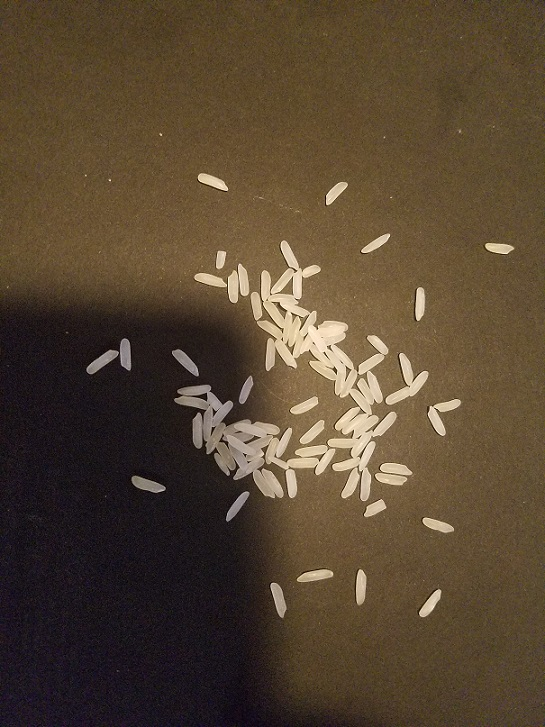egg: (84, 349, 119, 375), (266, 580, 289, 619), (222, 491, 249, 523), (171, 347, 200, 376), (220, 433, 255, 457), (251, 468, 276, 500), (231, 457, 264, 481), (420, 585, 443, 619), (274, 338, 298, 370), (262, 467, 285, 500), (262, 299, 288, 327), (359, 233, 391, 255), (269, 267, 295, 294), (371, 411, 397, 438), (204, 422, 225, 455), (333, 407, 360, 432), (295, 567, 334, 584), (299, 419, 325, 444), (322, 180, 347, 206), (331, 344, 356, 370), (350, 415, 379, 437), (215, 440, 236, 470), (305, 324, 328, 351), (313, 448, 336, 475), (357, 354, 385, 376), (211, 400, 233, 428), (341, 413, 369, 435), (278, 240, 299, 269), (197, 172, 229, 191), (310, 345, 336, 368), (366, 370, 383, 405), (227, 443, 249, 470), (426, 406, 445, 437), (397, 352, 414, 386), (130, 476, 166, 492), (349, 388, 372, 413), (254, 320, 284, 339), (422, 516, 455, 533), (341, 468, 359, 499), (276, 426, 293, 458), (357, 441, 377, 468), (340, 370, 360, 397), (354, 567, 368, 605), (193, 272, 228, 287), (365, 334, 390, 355), (373, 472, 408, 487), (290, 396, 319, 414), (356, 376, 374, 405), (408, 370, 428, 396), (173, 396, 210, 410), (384, 386, 411, 405), (309, 360, 336, 379), (276, 302, 311, 316), (231, 423, 266, 437), (298, 309, 316, 336), (221, 430, 255, 444), (176, 383, 212, 396), (237, 376, 253, 405), (433, 397, 462, 413), (379, 462, 412, 476), (362, 499, 387, 517), (414, 285, 426, 322), (325, 347, 345, 369), (221, 418, 250, 433), (331, 457, 360, 472), (288, 316, 302, 347), (291, 445, 327, 457), (359, 468, 372, 501), (227, 270, 239, 305), (192, 412, 203, 450), (119, 338, 132, 370), (238, 262, 250, 296), (212, 453, 229, 477), (484, 243, 515, 256), (248, 433, 273, 449), (264, 338, 276, 371), (250, 291, 263, 321), (284, 469, 297, 499), (281, 313, 293, 345), (251, 422, 280, 435), (293, 268, 304, 300), (202, 409, 213, 441), (323, 332, 346, 347), (335, 364, 346, 395), (265, 438, 278, 464), (260, 270, 271, 300), (286, 458, 319, 468), (206, 391, 223, 410), (299, 263, 322, 277), (315, 319, 347, 329), (326, 438, 358, 448), (315, 327, 346, 337), (266, 458, 289, 471), (215, 247, 227, 269), (299, 336, 312, 356), (293, 334, 303, 358)
